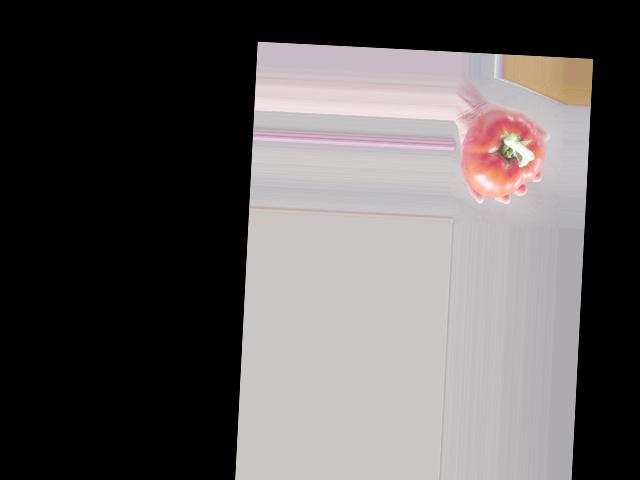tomato: (458, 108, 547, 200)
